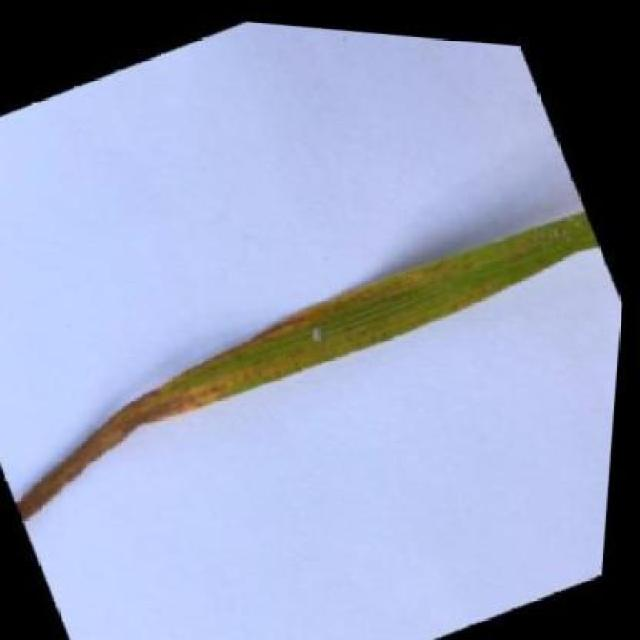Rice False Smut: (0, 150, 628, 565)
